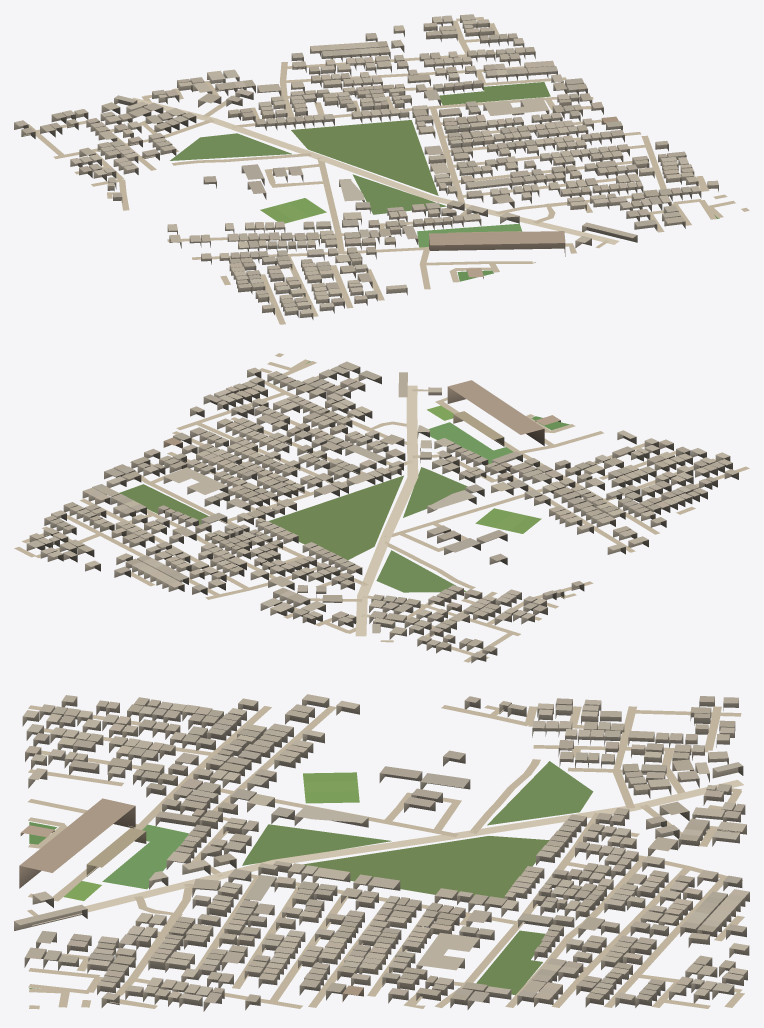
3 renders of one model, top to bottom at view 1: azimuth 30°, elevation 25°; view 2: azimuth 150°, elevation 25°; view 3: azimuth 270°, elevation 25°, orthographic. The views are drawn at different scales.
Parts seen in each view (by area): view 1: building, ground; view 2: building, ground; view 3: building, ground.
Boxes of the visible parts, <box> form: building: <box>14,14,718,319</box>; ground: <box>24,17,749,324</box>; building: <box>26,361,738,663</box>; ground: <box>14,353,749,662</box>; building: <box>14,694,749,1011</box>; ground: <box>27,705,744,1009</box>.
Bounding box in the file's own units: 514 × 18 × 517.
